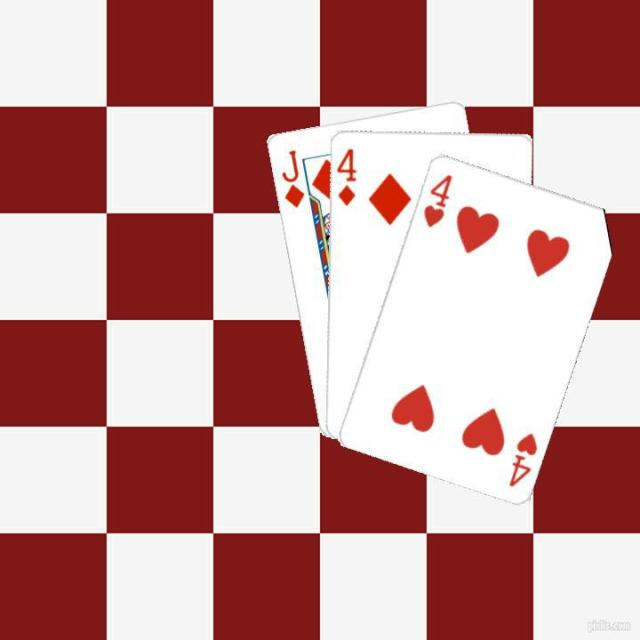4D: (332, 144, 358, 207)
4H: (504, 428, 539, 488), (419, 170, 454, 228)
JD: (277, 146, 306, 210)
